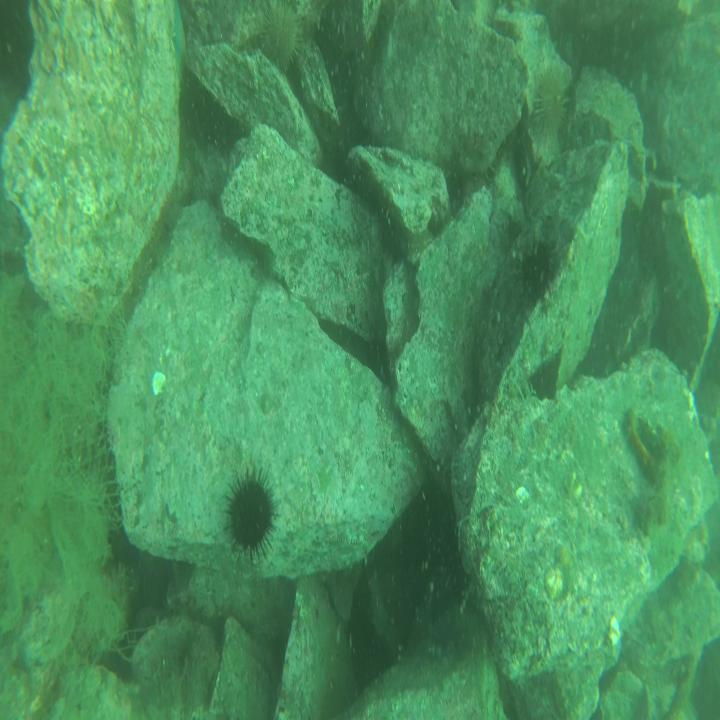echinus: (226, 474, 273, 558), (264, 2, 300, 71), (521, 238, 554, 298)
starfish: (170, 1, 186, 81)
